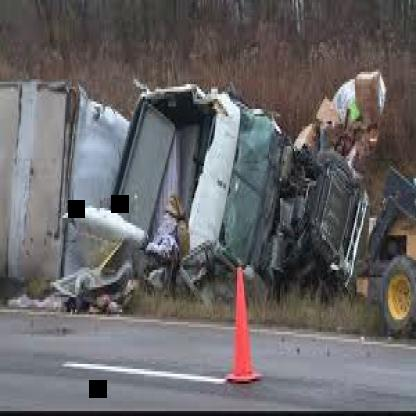accident: (12, 47, 404, 320)
